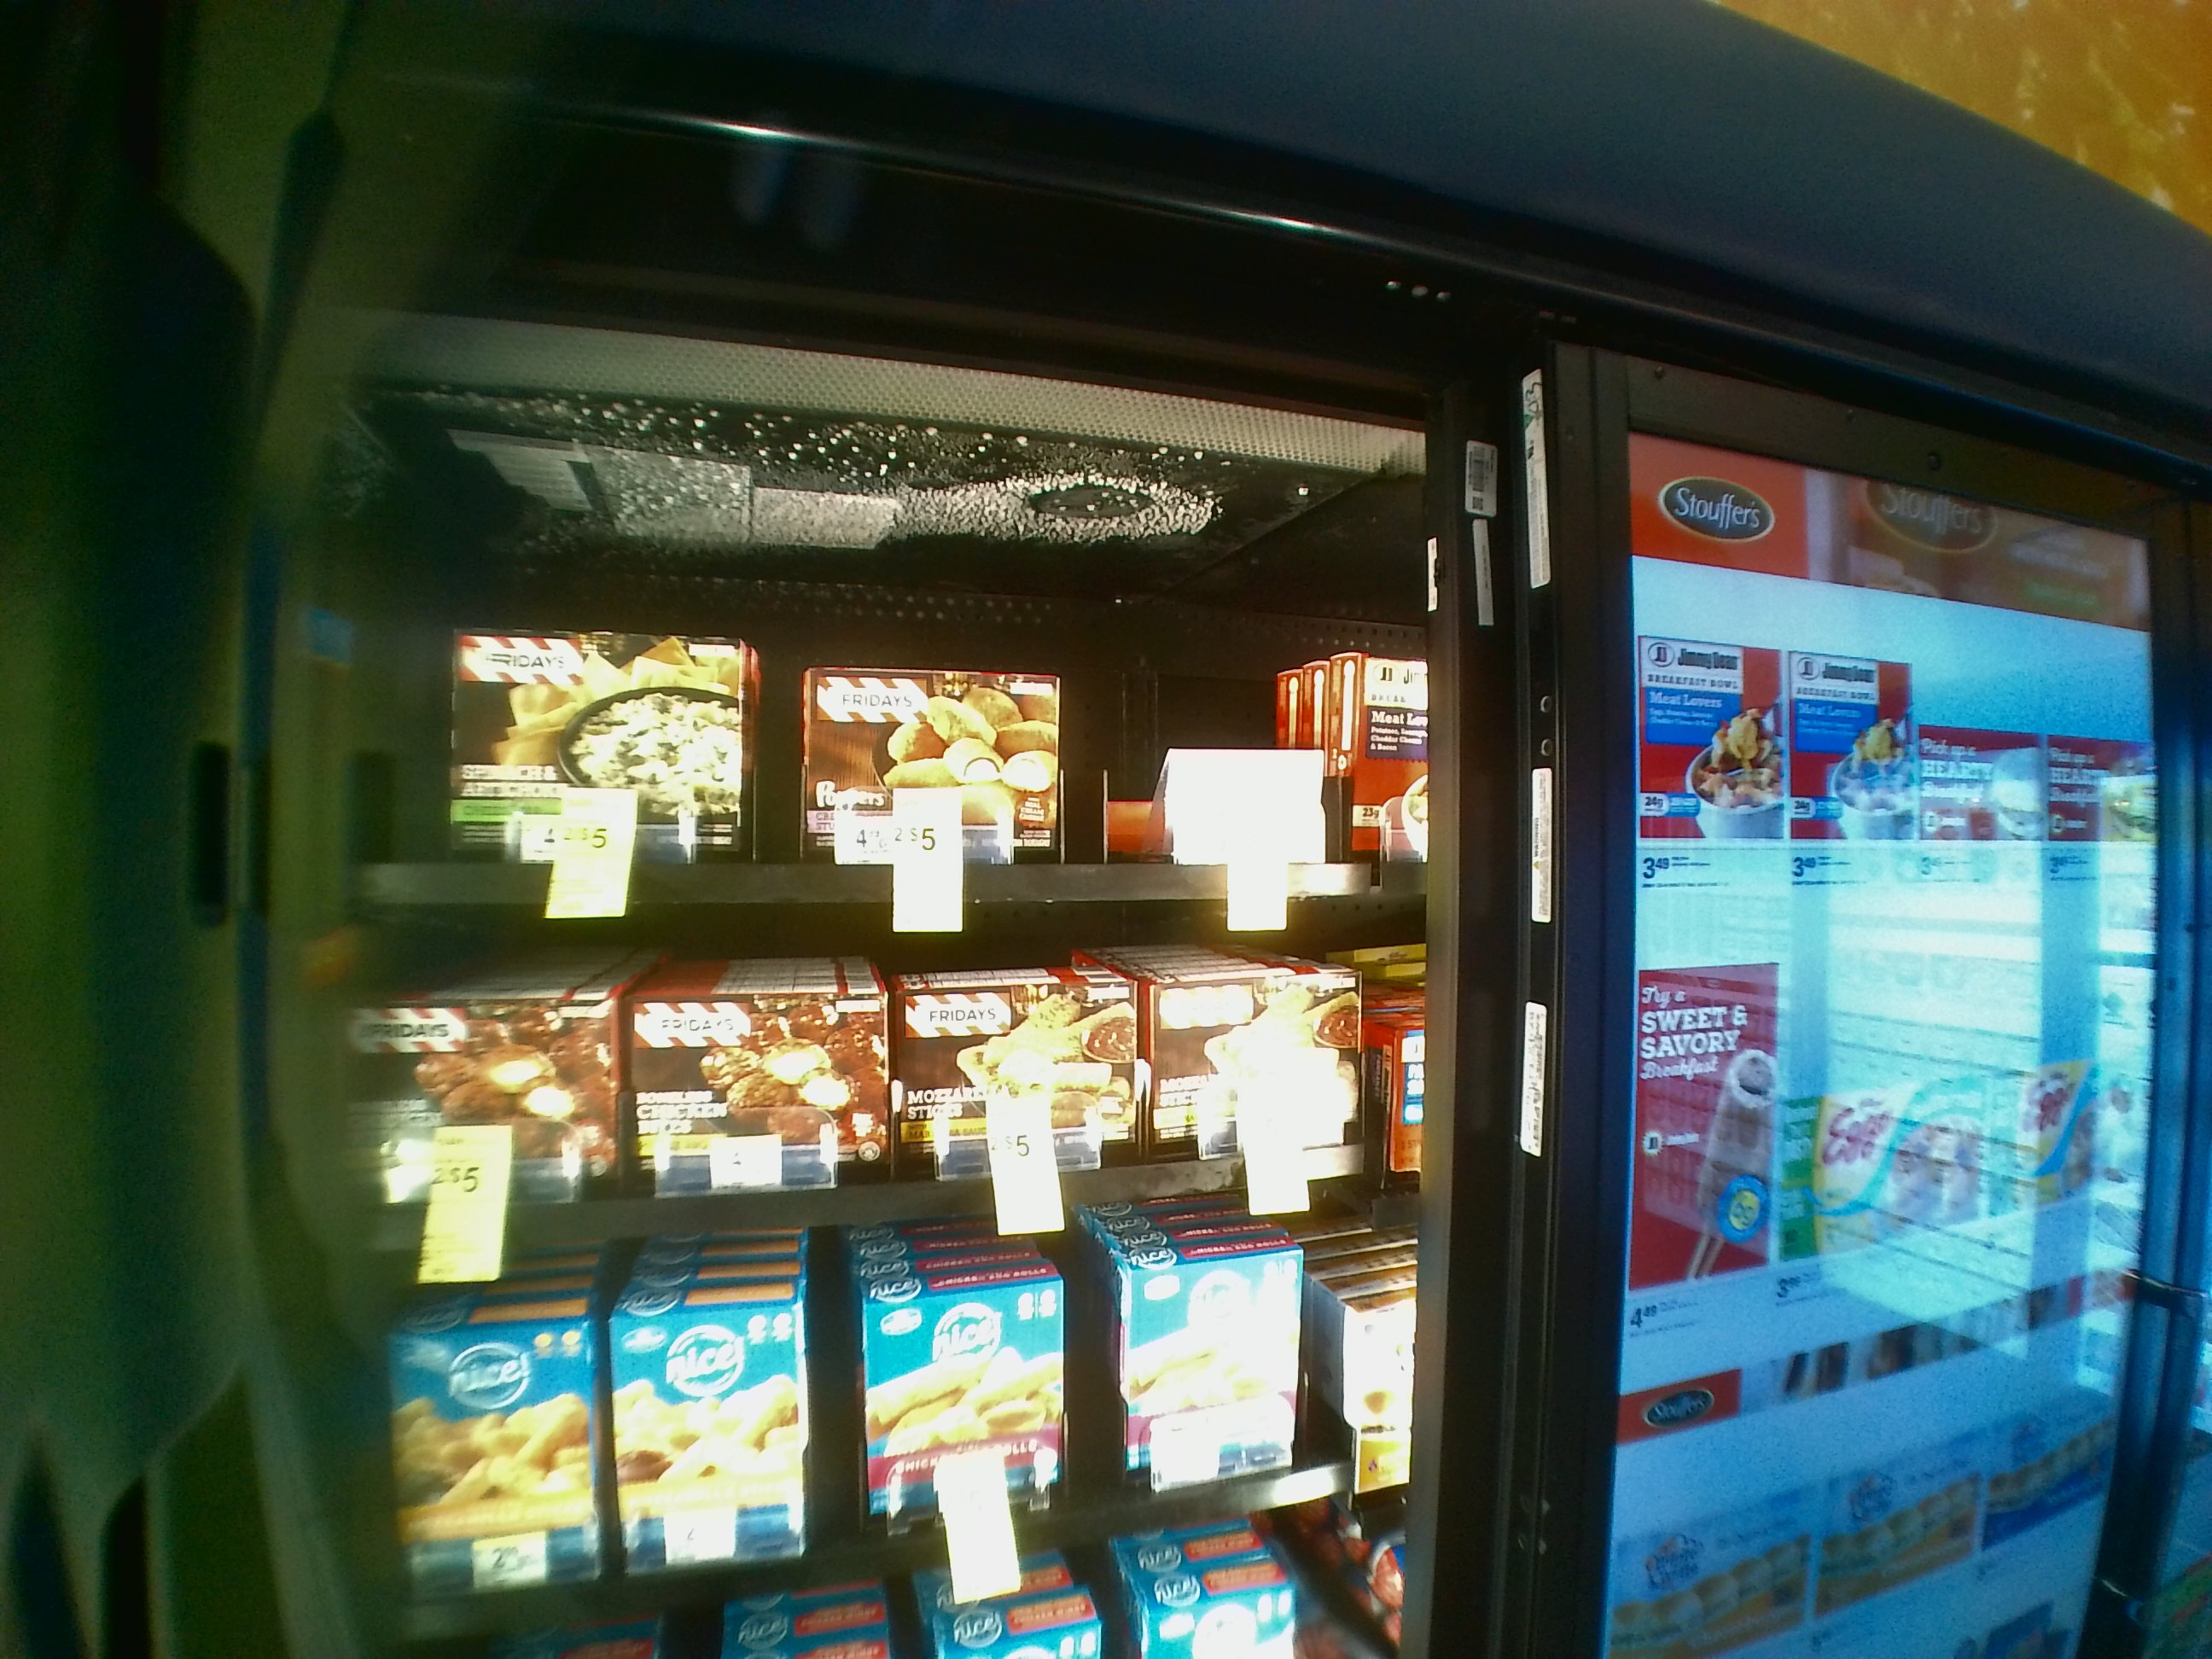shelf: (331, 477, 1418, 918), (334, 932, 1420, 1265)
